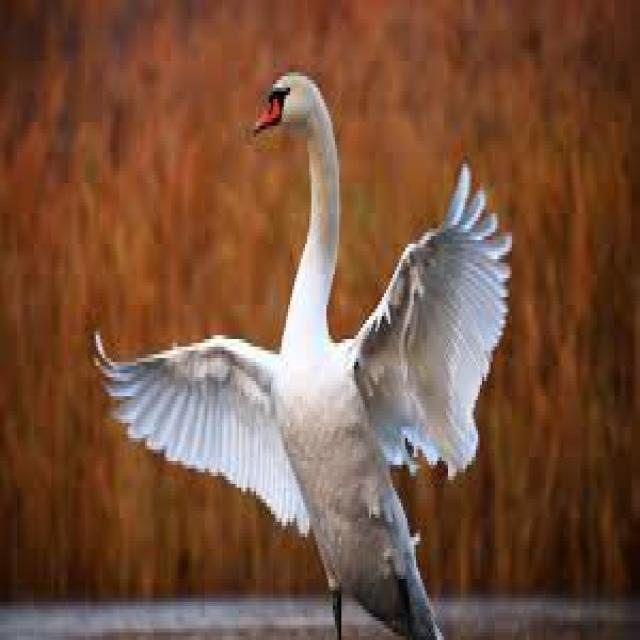swan: (96, 72, 510, 636)
